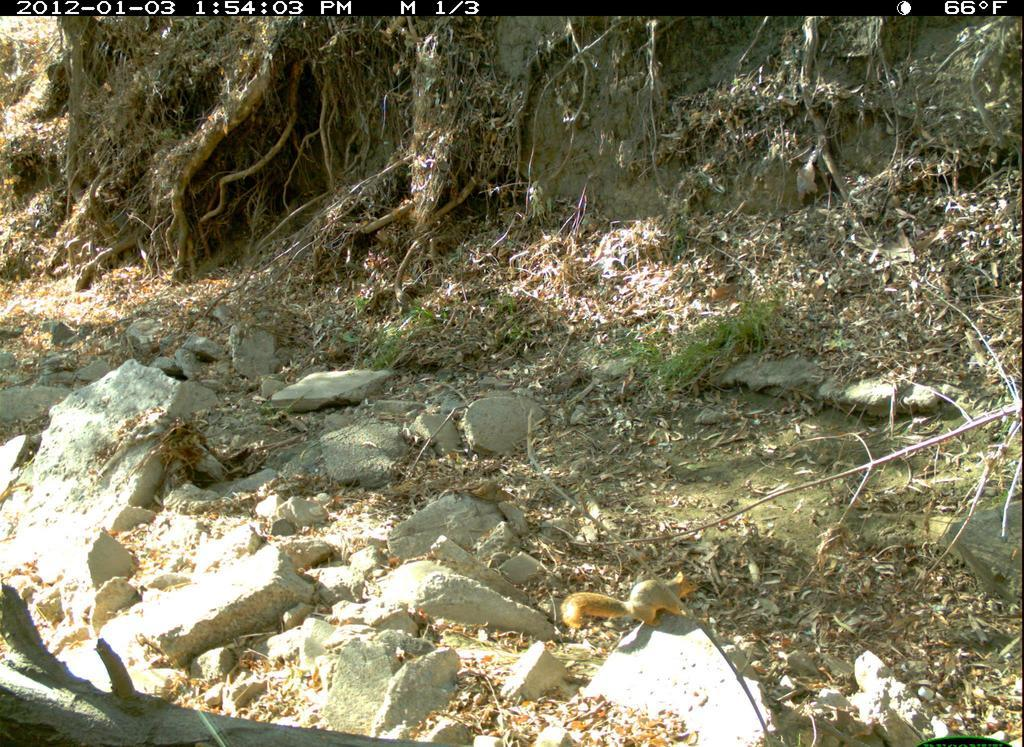squirrel: (553, 569, 708, 638)
